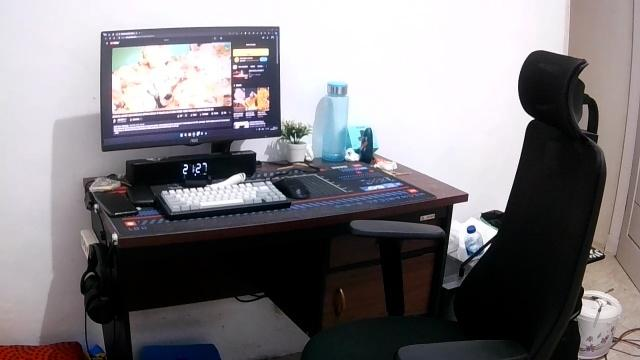AIO PC-Monitor-TV: (98, 25, 281, 154)
Kursi: (300, 49, 610, 359)
Meja: (83, 147, 468, 359)
